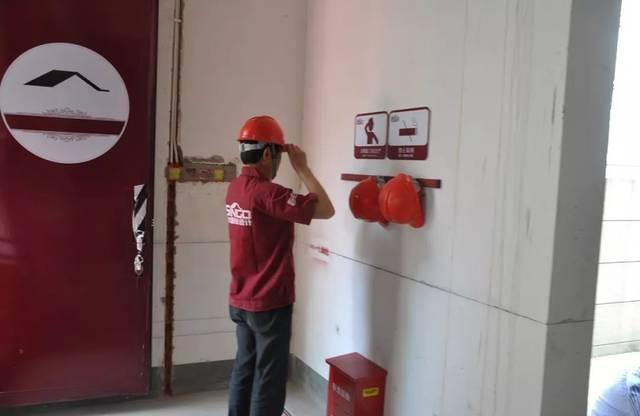helmet: (378, 175, 431, 227), (236, 113, 294, 148), (347, 181, 385, 223)
no_wear: (222, 176, 298, 309)
